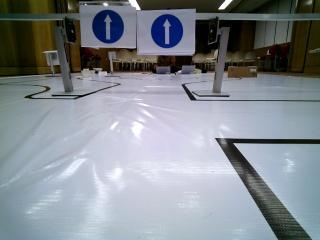straight: (80, 2, 138, 50), (138, 12, 192, 53)
